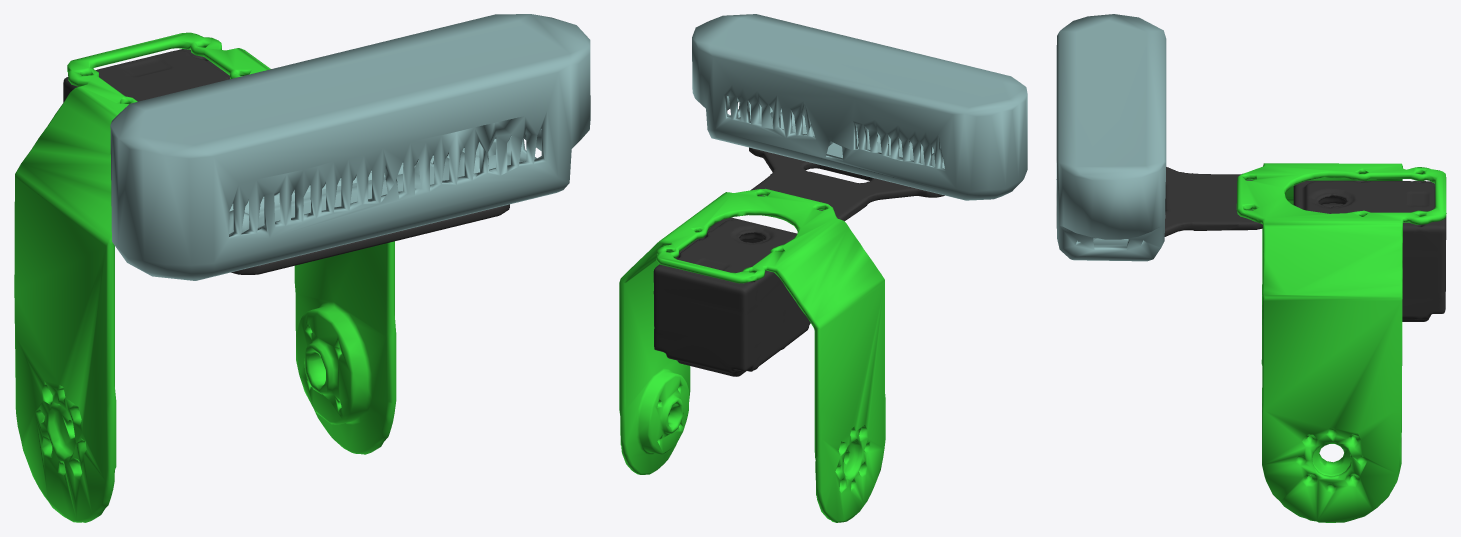
The model's file is UpperArm.fbx.
3 views of the same model, side by side, from view 1: azimuth 30°, elevation 25°; view 2: azimuth 150°, elevation 25°; view 3: azimuth 270°, elevation 25° (orthographic). The views are drawn at different scales.
Visible parts, largest first — view 1: depth_cam_link, link4, servo_link2, camera_connect_link; view 2: depth_cam_link, link4, servo_link2, camera_connect_link; view 3: link4, depth_cam_link, servo_link2, camera_connect_link.
Boxes of the visible parts, x1,y1,x2,y2 form: depth_cam_link: (110, 14, 590, 280); link4: (14, 32, 396, 522); servo_link2: (63, 49, 229, 102); camera_connect_link: (231, 204, 509, 274); depth_cam_link: (692, 14, 1027, 200); link4: (619, 188, 885, 522); servo_link2: (653, 217, 810, 376); camera_connect_link: (749, 147, 944, 221); link4: (1236, 163, 1446, 522); depth_cam_link: (1056, 14, 1166, 261); servo_link2: (1293, 180, 1446, 321); camera_connect_link: (1164, 166, 1262, 236).
Bounding box in the file's own units: 39.87 × 42.09 × 39.68.
